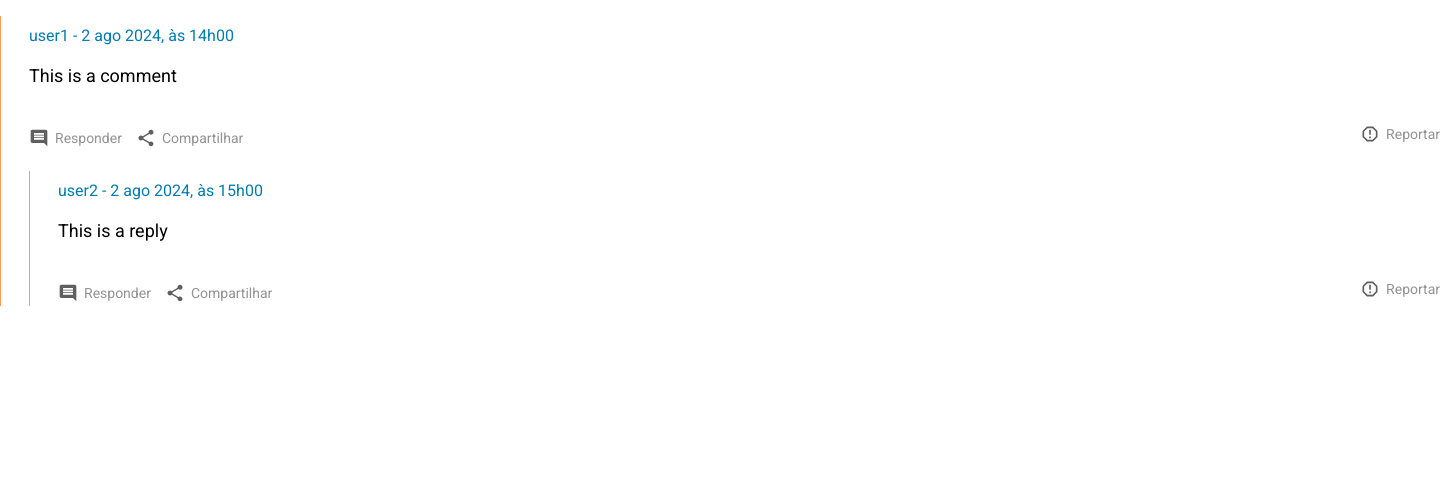
Scenario: Comment Component › hide reply on cancel button click
Click the 1st button with test id "comment-reply-button" at (75,138), box left=29, top=124, right=122, bottom=151
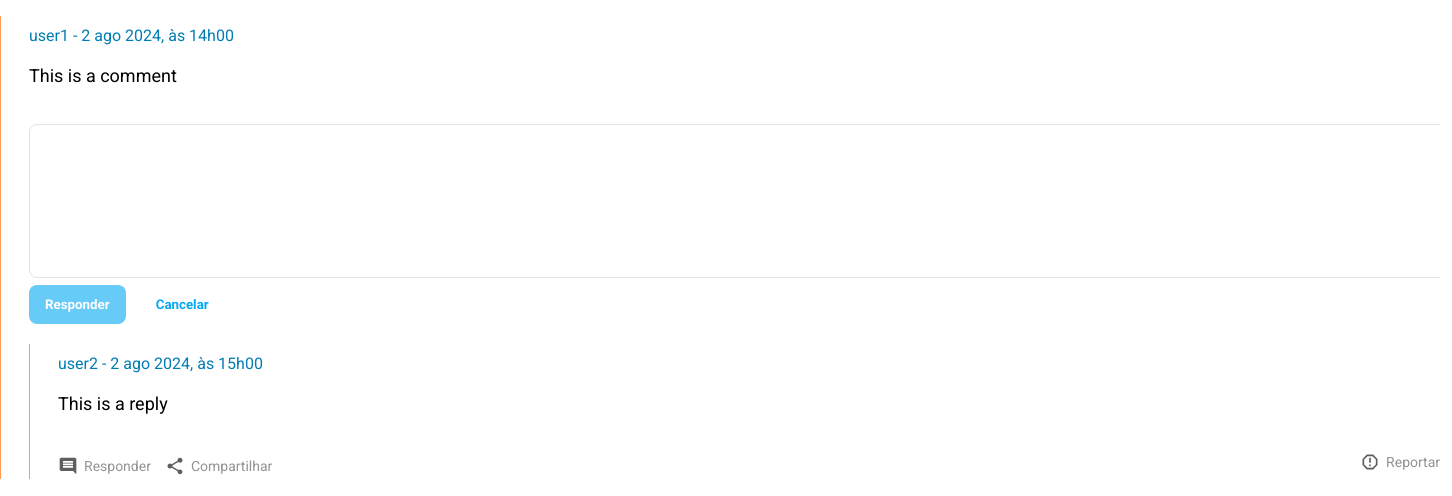
Now the element with test id "comment-reply" is shown, box left=29, top=124, right=1440, bottom=324
Click the button "Cancelar" at (182,304), box left=140, top=285, right=225, bottom=324
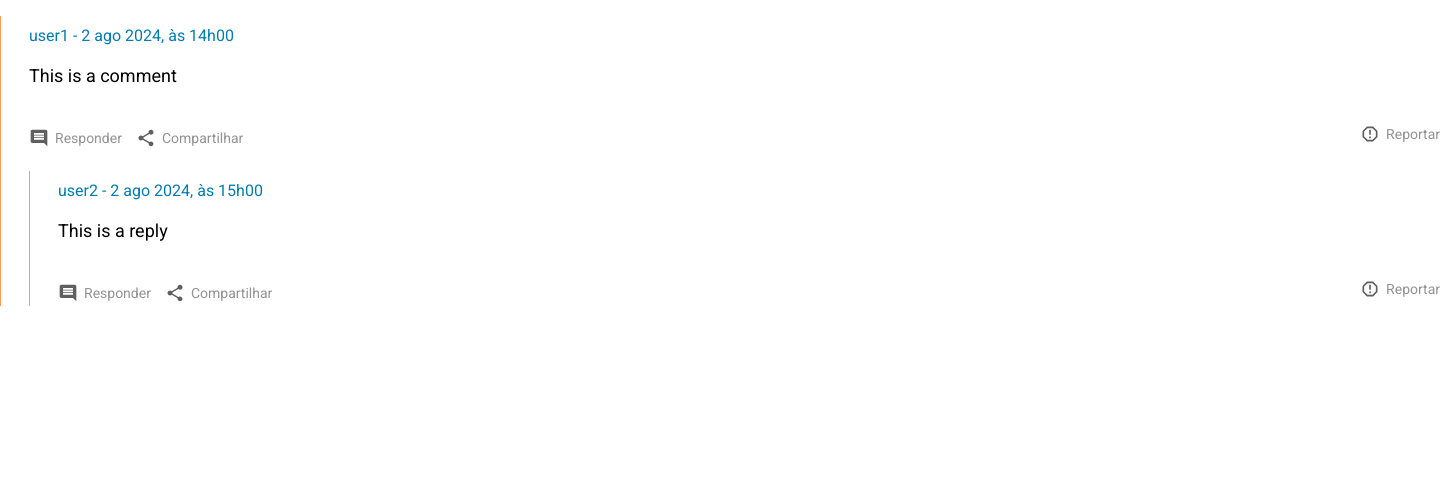
Now the element with test id "comment-reply" is gone
